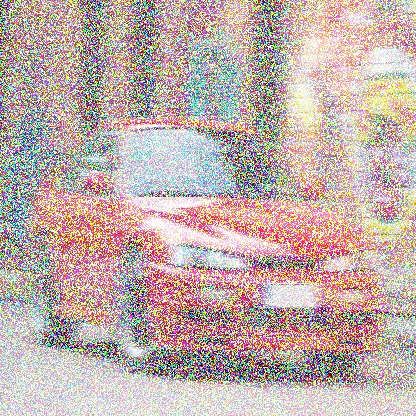Vehicle: (26, 118, 383, 377)
